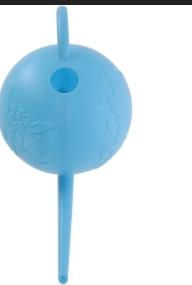ARROSOIR: (2, 4, 132, 285)
